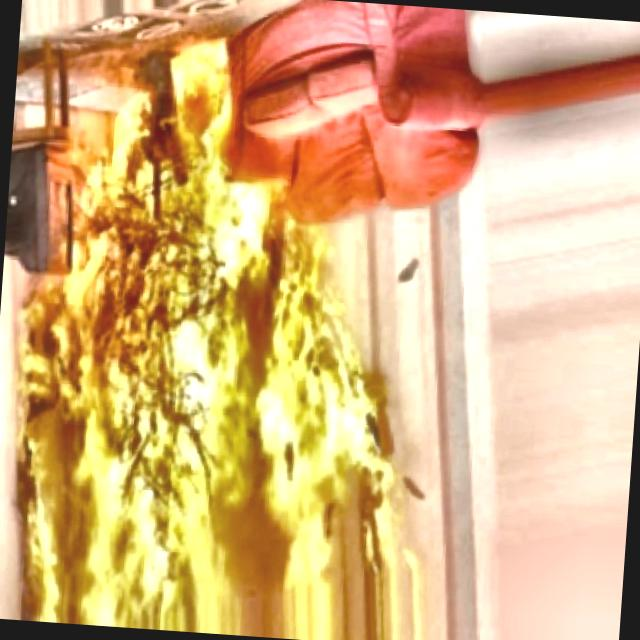fire: (0, 25, 437, 640)
